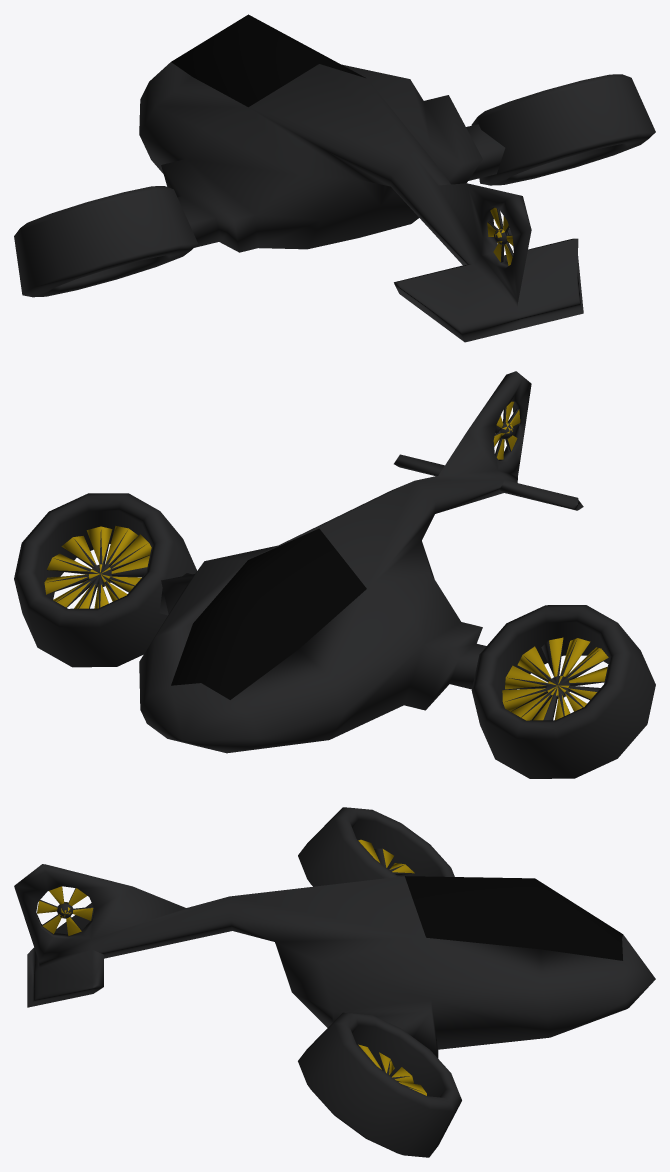
The model's file is car3.glb.
The picture shows the model from 3 angles, top to bottom: view 1: azimuth 30°, elevation 25°; view 2: azimuth 150°, elevation 25°; view 3: azimuth 270°, elevation 25°; orthographic projection. The views are drawn at different scales.
Parts seen in each view (by area): view 1: 3DSMesh_9.002; view 2: 3DSMesh_9.002; view 3: 3DSMesh_9.002.
Boxes of the visible parts, x1,y1,x2,y2 form: 3DSMesh_9.002: (14, 14, 655, 342); 3DSMesh_9.002: (14, 371, 655, 778); 3DSMesh_9.002: (14, 807, 655, 1157).
Size of the model in its own units: 5.57 by 1.68 by 5.46.
